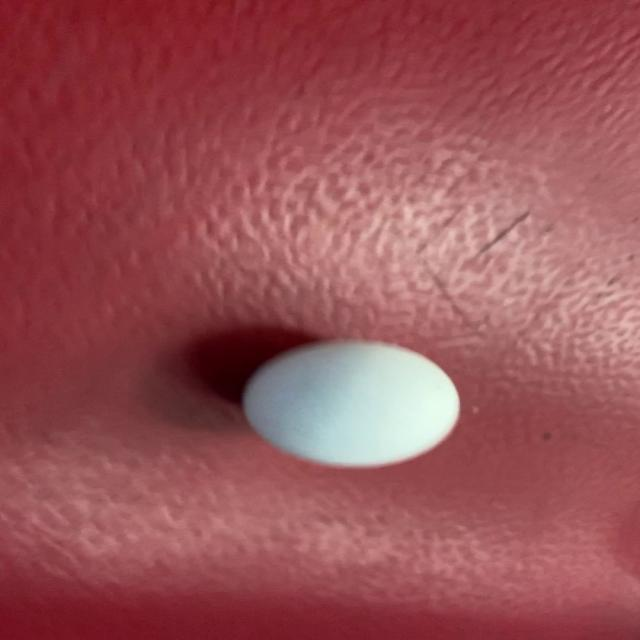ping-pong-ball: (212, 335, 487, 473)
